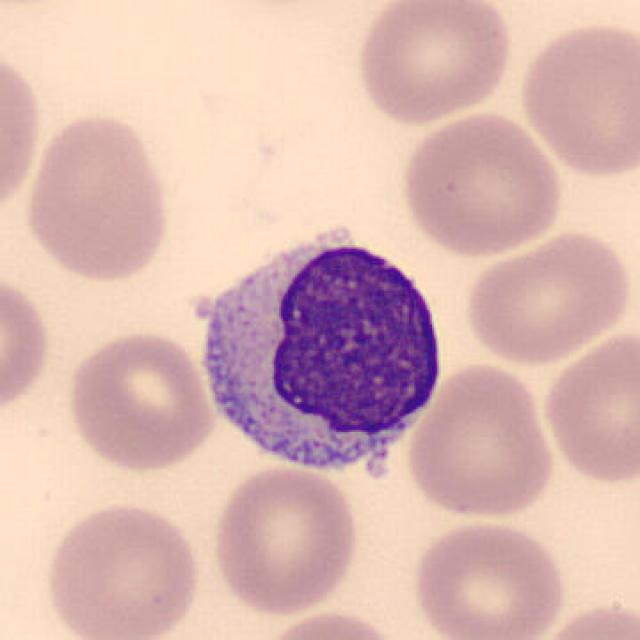Lymphocyte: (191, 218, 454, 486)
RBC: (20, 107, 176, 286), (397, 109, 567, 259), (402, 360, 558, 522), (458, 227, 634, 367), (208, 462, 361, 619), (39, 499, 205, 640), (62, 326, 217, 474), (350, 0, 518, 129), (514, 14, 638, 180), (409, 516, 569, 640), (537, 326, 638, 487), (0, 266, 55, 425), (0, 41, 46, 226), (254, 608, 406, 640), (528, 597, 638, 640)
